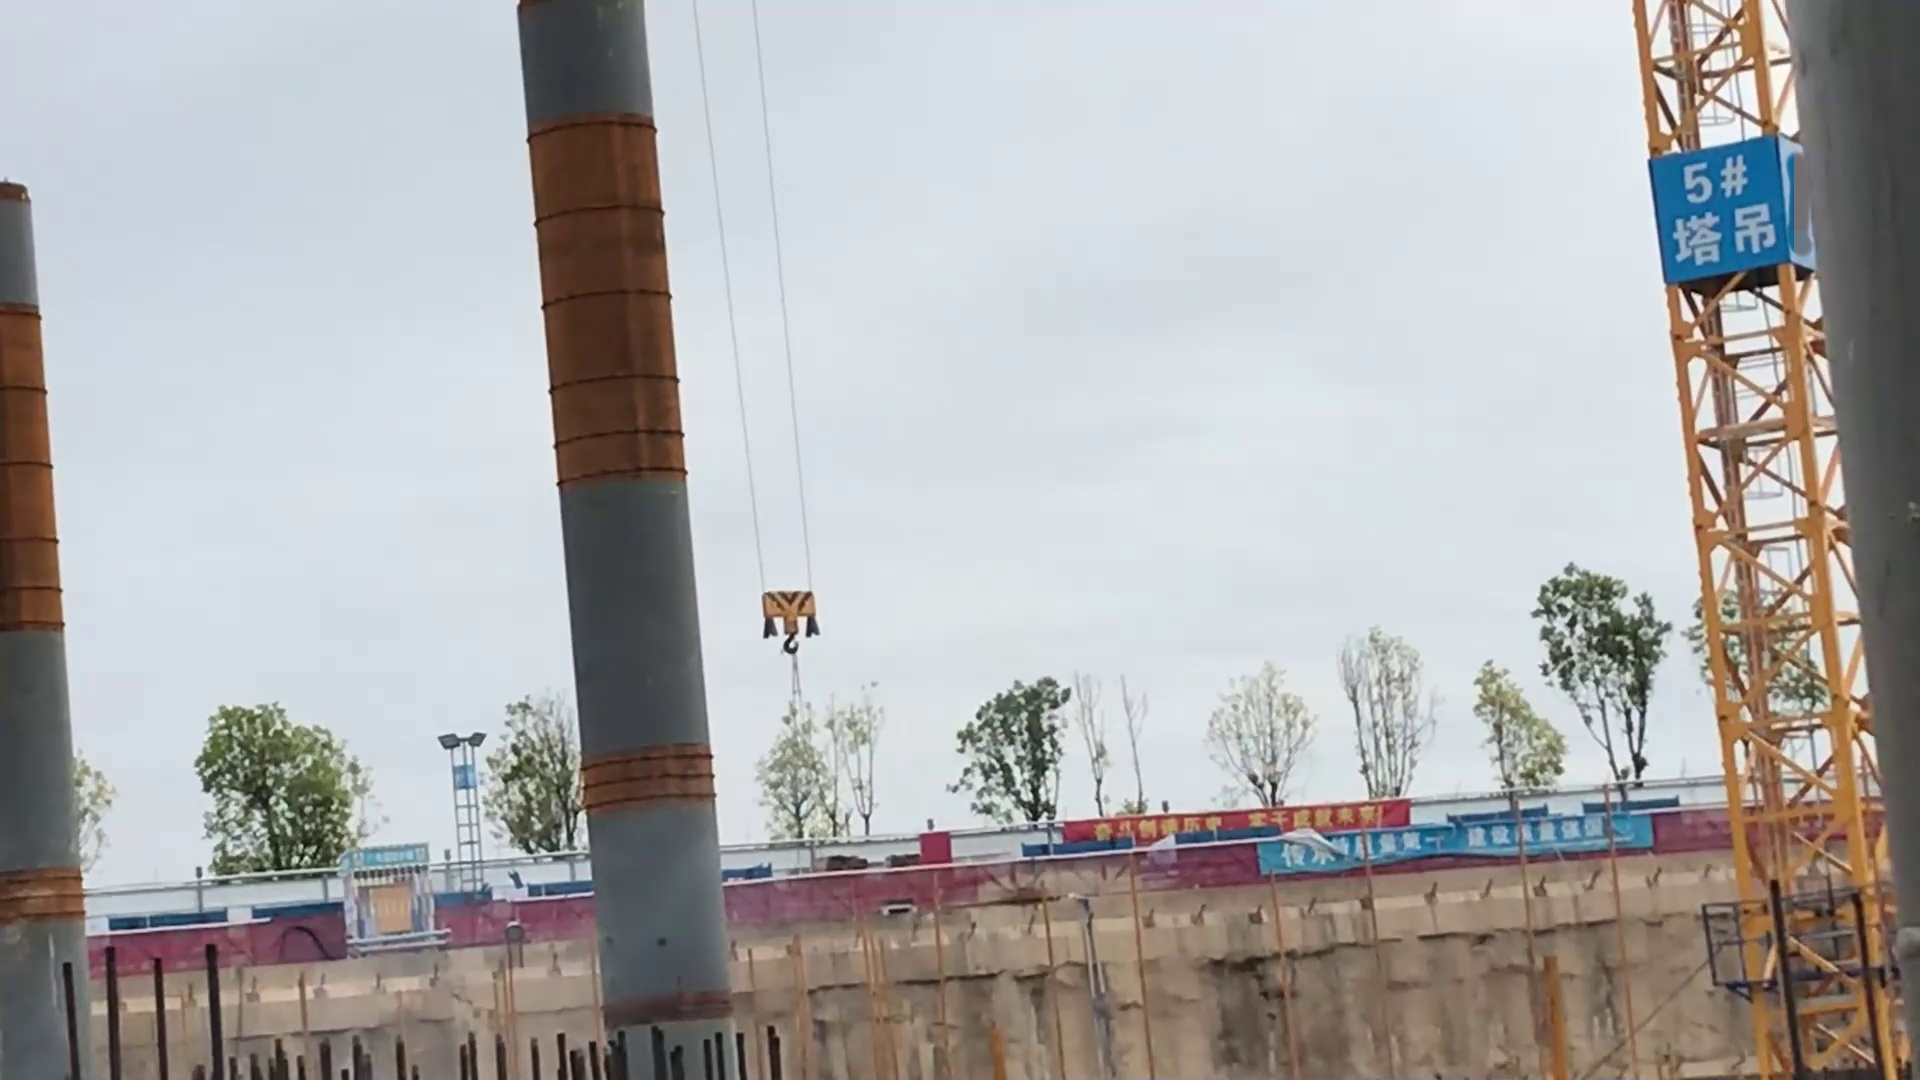ebox: (357, 884, 415, 934)
hook: (757, 585, 824, 658)
slogan: (1259, 811, 1650, 872), (1063, 798, 1411, 847)
